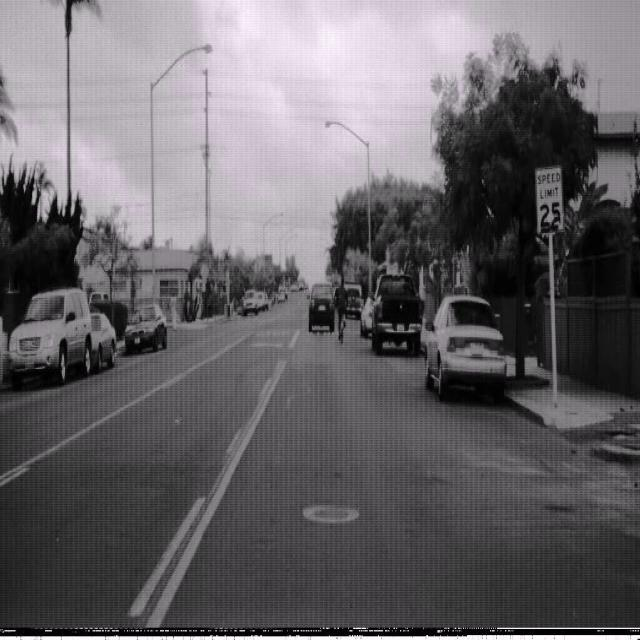speedLimit25: (534, 164, 565, 236)
